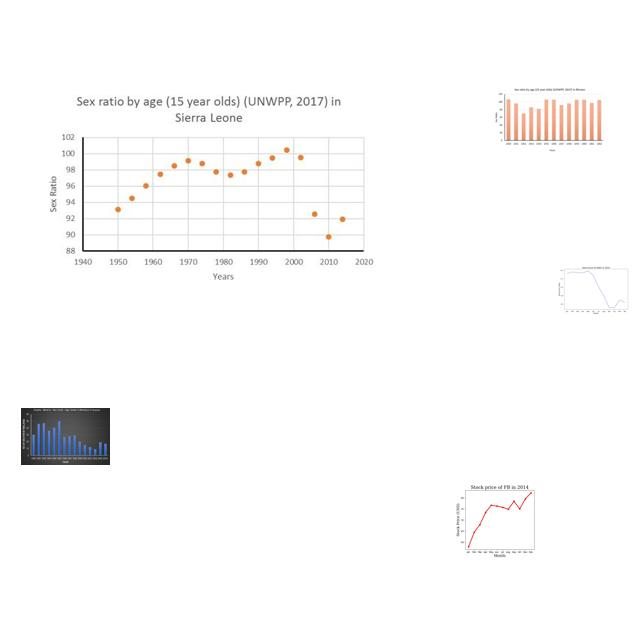Graph: (38, 89, 381, 290), (447, 481, 550, 558), (493, 86, 607, 154), (21, 408, 110, 465), (554, 261, 636, 317)
